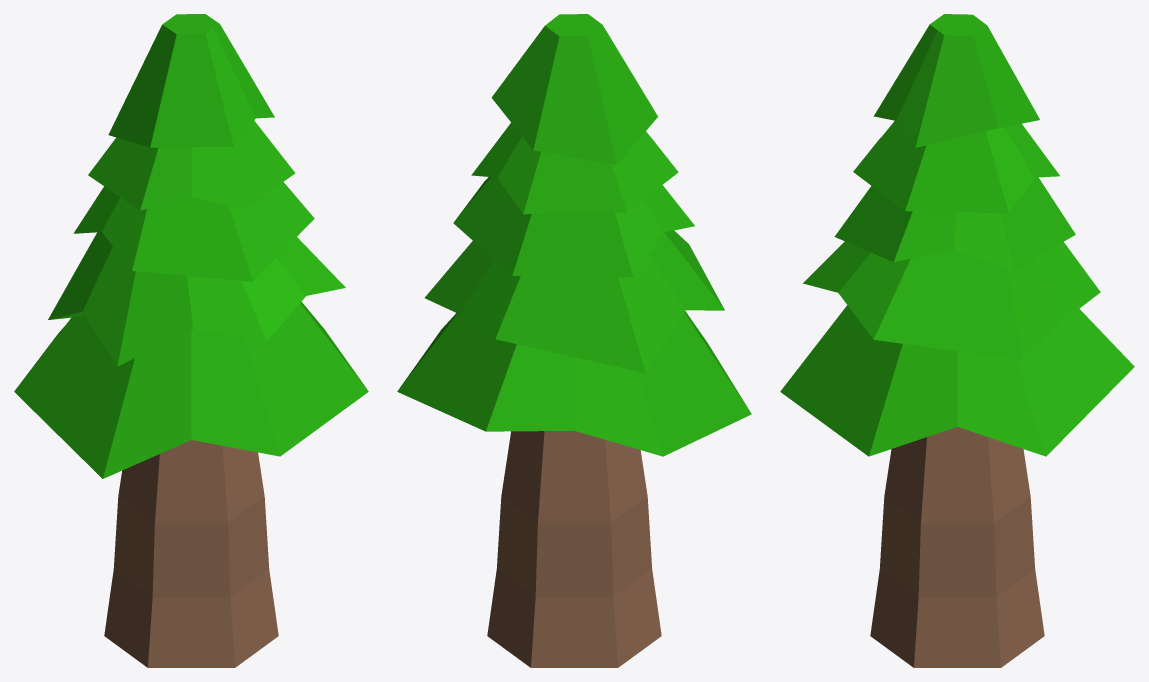
Rendered from tree2.fbx.
The picture shows the model from 3 angles, left to right: view 1: azimuth 30°, elevation 25°; view 2: azimuth 150°, elevation 25°; view 3: azimuth 270°, elevation 25°; orthographic projection.
Visible parts, largest first — view 1: Cylinder.001, Cylinder; view 2: Cylinder.001, Cylinder; view 3: Cylinder.001, Cylinder.
Part boxes in pixels (x1,y1,x2,y2): Cylinder.001: (14,14,368,478); Cylinder: (104,440,278,667); Cylinder.001: (397,14,751,456); Cylinder: (487,430,661,667); Cylinder.001: (780,14,1134,456); Cylinder: (870,427,1044,667).
Bounding box in the file's own units: 420 × 922 × 485.
